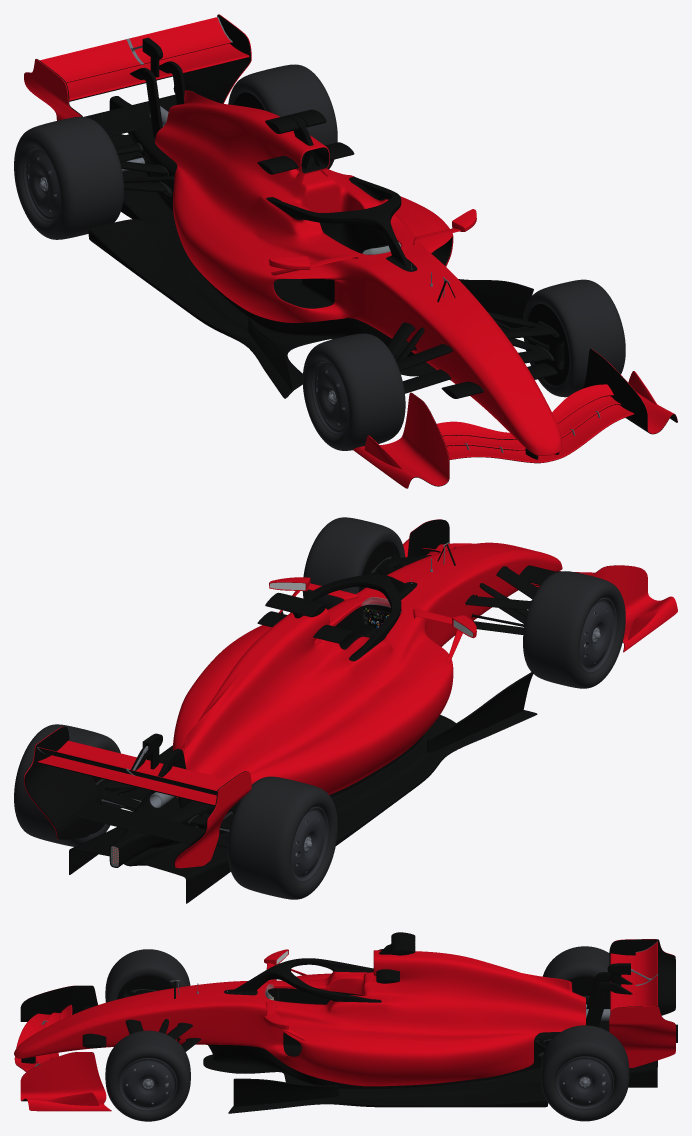
File: INTEIA_F1_estatico.glb
The picture shows the model from 3 angles, top to bottom: view 1: azimuth 30°, elevation 25°; view 2: azimuth 150°, elevation 25°; view 3: azimuth 270°, elevation 25°; orthographic projection. The views are drawn at different scales.
Parts seen in each view (by area): view 1: main_body__01, floor__01, rear_tire__01, front_tire__01, front_tire__02, rear_wing_drs__01, rear_tire__02, front_wing_side_plates__01, rear_wing_main_part__01, front_wing_side_plates__02, front_wing_bottom__01, rear_wing_side__02 (+15 smaller); view 2: main_body__01, floor__01, rear_tire__01, front_tire__01, rear_wing_side__02, front_tire__02, rear_wing_main_part__01, rear_tire__02, front_wing_side_plates__01, floor__02, rear_wing_side__01, rear_wing_bottom_holder__01 (+12 smaller); view 3: main_body__01, floor__01, rear_tire__02, front_tire__02, front_wing_side_plates__02, rear_wing_side__02, front_tire__01, floor__03, rear_wheel_cover__R_02, front_wheel_cover__R_02, rear_wing_side__01, front_wing_side_plates__01 (+19 smaller).
Boxes of the visible parts, x1,y1,x2,y2 form: main_body__01: [155, 90, 562, 455]; floor__01: [88, 96, 504, 398]; rear_tire__01: [14, 116, 123, 239]; front_tire__01: [302, 333, 405, 450]; front_tire__02: [523, 279, 625, 397]; rear_wing_drs__01: [40, 17, 231, 82]; rear_tire__02: [228, 64, 337, 169]; front_wing_side_plates__01: [353, 392, 449, 488]; rear_wing_main_part__01: [66, 43, 249, 101]; front_wing_side_plates__02: [583, 348, 677, 434]; front_wing_bottom__01: [446, 404, 634, 463]; rear_wing_side__02: [173, 14, 251, 103]; main_body__01: [173, 542, 562, 797]; floor__01: [69, 710, 537, 903]; rear_tire__01: [227, 776, 337, 899]; front_tire__01: [523, 571, 625, 688]; rear_wing_side__02: [24, 726, 101, 839]; front_tire__02: [302, 517, 405, 609]; rear_wing_main_part__01: [37, 740, 229, 806]; rear_tire__02: [14, 724, 122, 846]; front_wing_side_plates__01: [591, 565, 677, 652]; floor__02: [427, 671, 533, 753]; rear_wing_side__01: [173, 771, 251, 868]; rear_wing_bottom_holder__01: [71, 802, 205, 844]; main_body__01: [14, 950, 585, 1086]; floor__01: [203, 1020, 677, 1113]; rear_tire__02: [540, 1025, 629, 1121]; front_tire__02: [105, 1030, 190, 1121]; front_wing_side_plates__02: [20, 1052, 111, 1111]; rear_wing_side__02: [609, 1006, 675, 1067]; front_tire__01: [105, 949, 190, 1002]; floor__03: [233, 1078, 338, 1106]; rear_wheel_cover__R_02: [559, 1059, 610, 1105]; front_wheel_cover__R_02: [122, 1060, 173, 1107]; rear_wing_side__01: [609, 939, 675, 1015]; front_wing_side_plates__01: [20, 985, 97, 1021].
Bounding box in the file's own units: 1.85 × 1.13 × 5.11.
21 materials, 3 textured.
